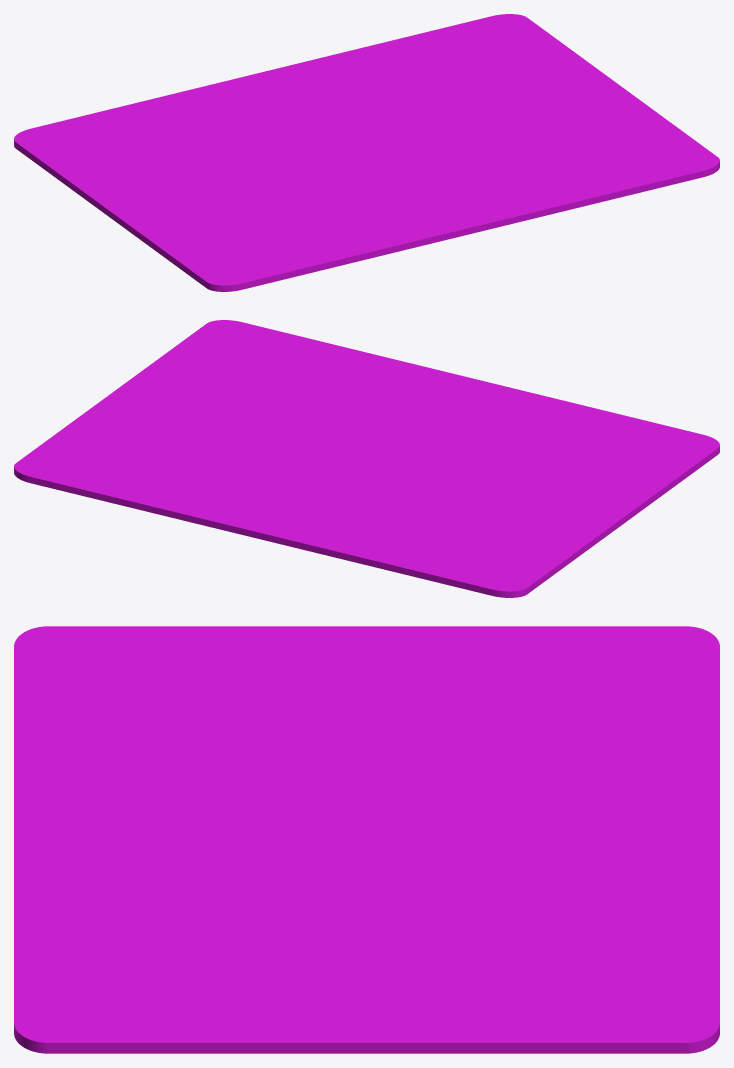
Rendered from card2.glb.
The picture shows the model from 3 angles, top to bottom: view 1: azimuth 30°, elevation 25°; view 2: azimuth 150°, elevation 25°; view 3: azimuth 270°, elevation 25°; orthographic projection. The views are drawn at different scales.
Parts seen in each view (by area): view 1: CardGroup; view 2: CardGroup; view 3: CardGroup.
Part boxes in pixels (x1,y1,x2,y2): CardGroup: [14, 14, 719, 291]; CardGroup: [14, 320, 719, 597]; CardGroup: [14, 626, 719, 1053].
Size of the model in its own units: 2.5 by 0.03 by 1.79.
